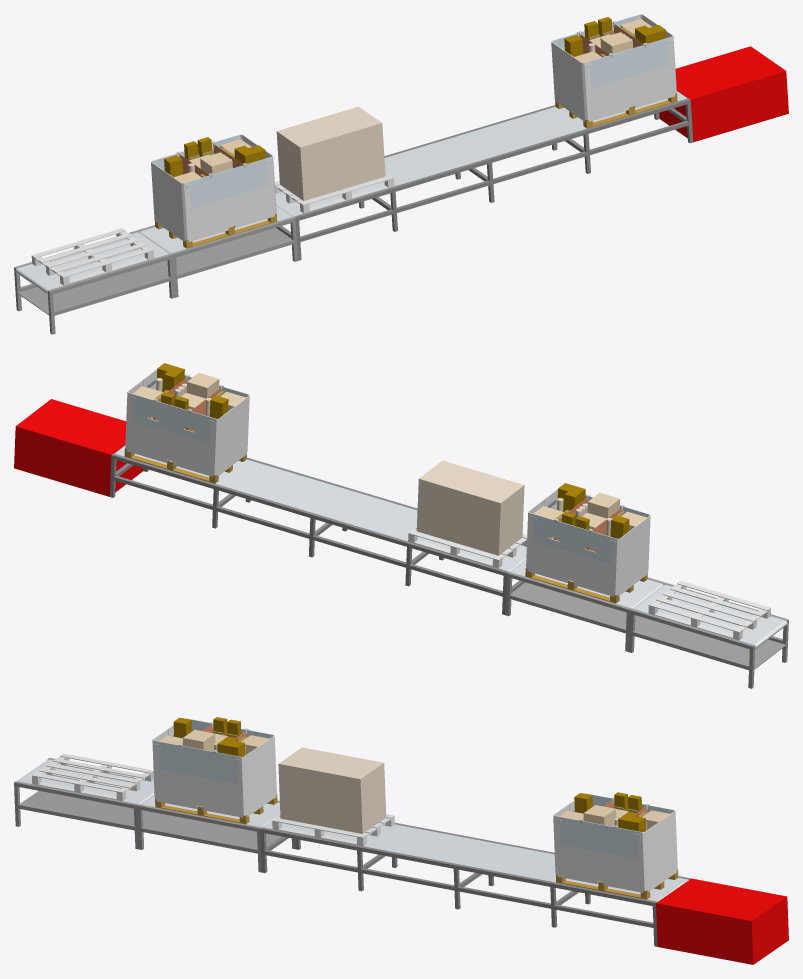
Rendered from Annexe 2.glb.
3 renders of one model, top to bottom at view 1: azimuth 30°, elevation 25°; view 2: azimuth 150°, elevation 25°; view 3: azimuth 330°, elevation 25°, orthographic.
Visible parts, largest first — view 1: Part 1 (×8), Part 2 (×7), Part 3 (×2), Part 16__Part 16, Part 6 (×2); view 2: Part 1 (×12), Part 2 (×7), Part 3 (×2), Part 16__Part 16; view 3: Part 1 (×10), Part 2 (×7), Part 3 (×2), Part 16__Part 16, Part 6 (×2).
Boxes of the visible parts, x1,y1,x2,y2 form: Part 1 (×8): (14,98,693,334); Part 2 (×7): (15,91,687,294); Part 3 (×2): (151,14,676,241); Part 16__Part 16: (659,46,788,142); Part 6 (×2): (186,38,671,208); Part 1 (×12): (109,373,788,688); Part 2 (×7): (114,445,787,648); Part 3 (×2): (125,369,650,596); Part 16__Part 16: (14,399,143,496); Part 1 (×10): (14,730,691,946); Part 2 (×7): (17,753,688,901); Part 3 (×2): (152,718,677,892); Part 16__Part 16: (656,878,788,964); Part 6 (×2): (155,741,640,859).
Size of the model in its own units: 10.81 by 2.12 by 0.9224.
